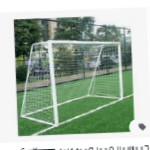goals: (20, 39, 124, 124)
